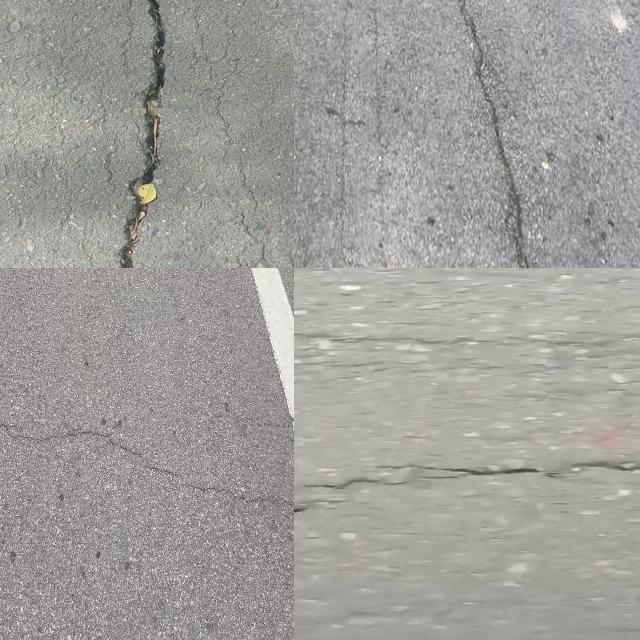Melintang: (0, 410, 294, 519), (294, 448, 640, 519)
Memanjang: (431, 0, 549, 268), (106, 0, 177, 268)
